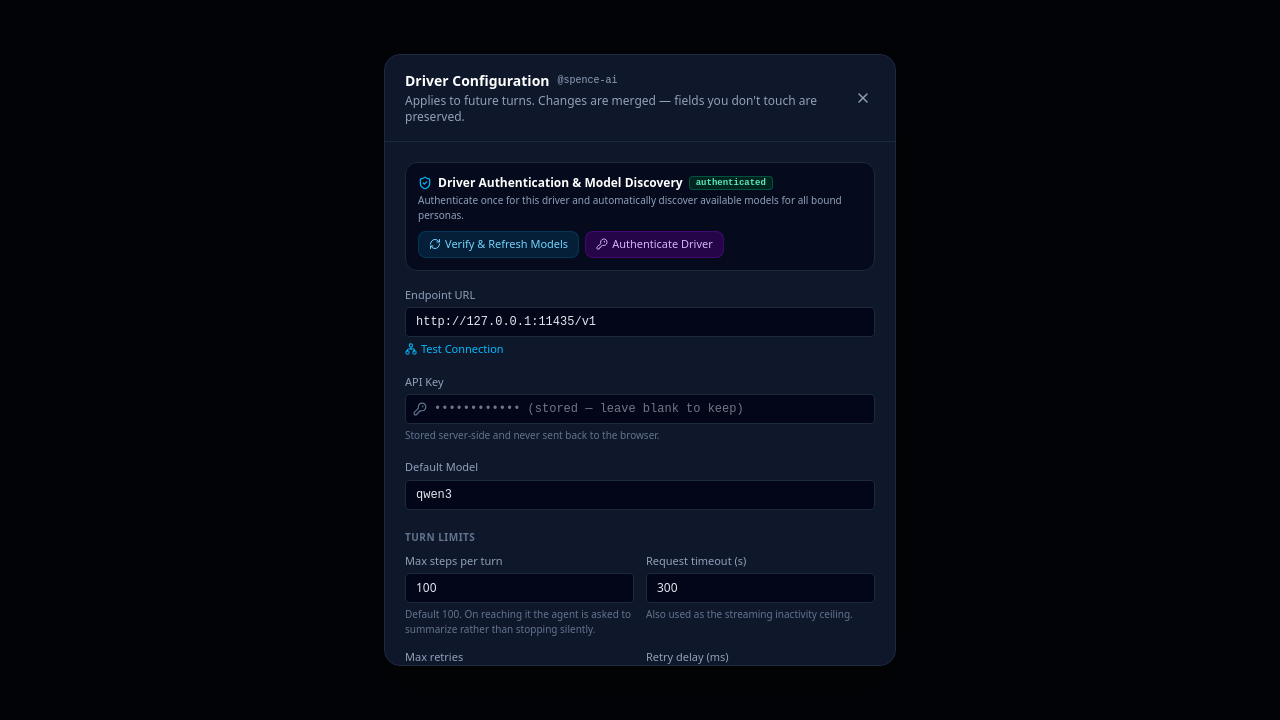
Test: DriverConfigModal › offers Interactive OAuth Login for an OpenAI driver when a custom Login Command is configured
The width and height of the screenshot is (1280, 720).
What coordinates should you click on to do the following:
click the button "Authenticate Driver"
I would click on:
 (654, 244)
Its box is x1=585 y1=231 x2=724 y2=258.
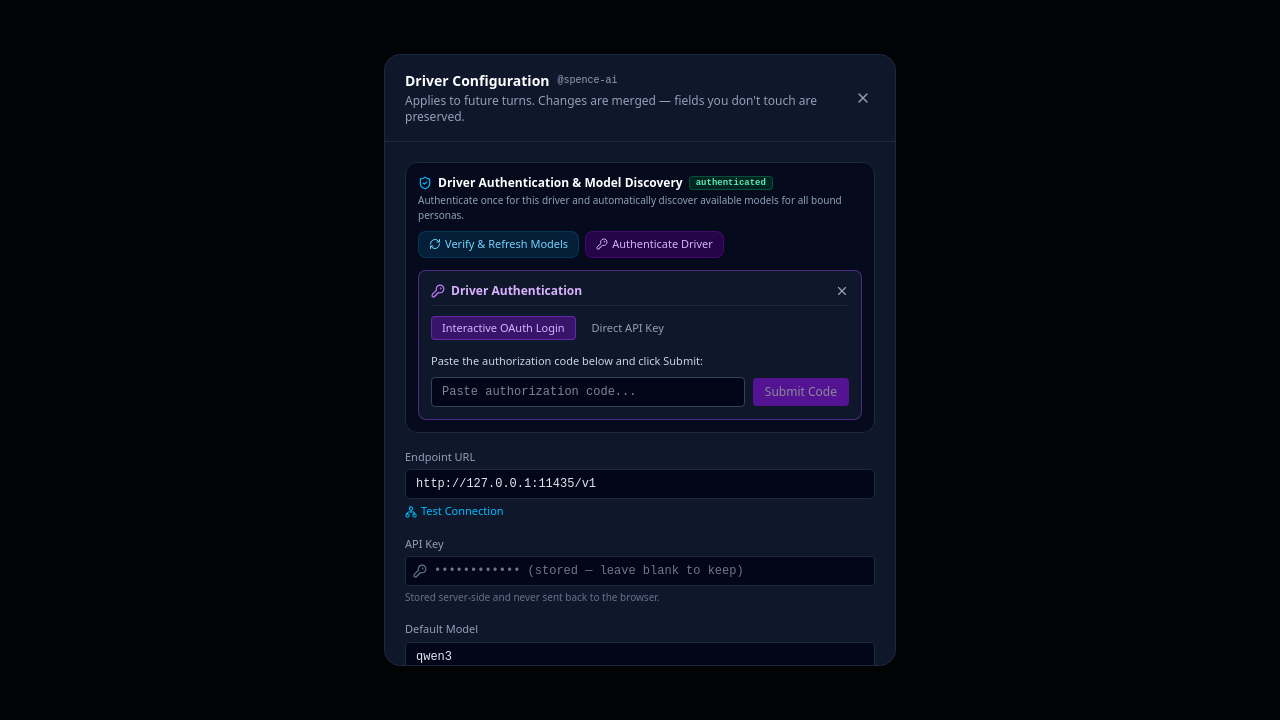
Expected: the button "Interactive OAuth Login" is shown, x1=431 y1=316 x2=576 y2=340
